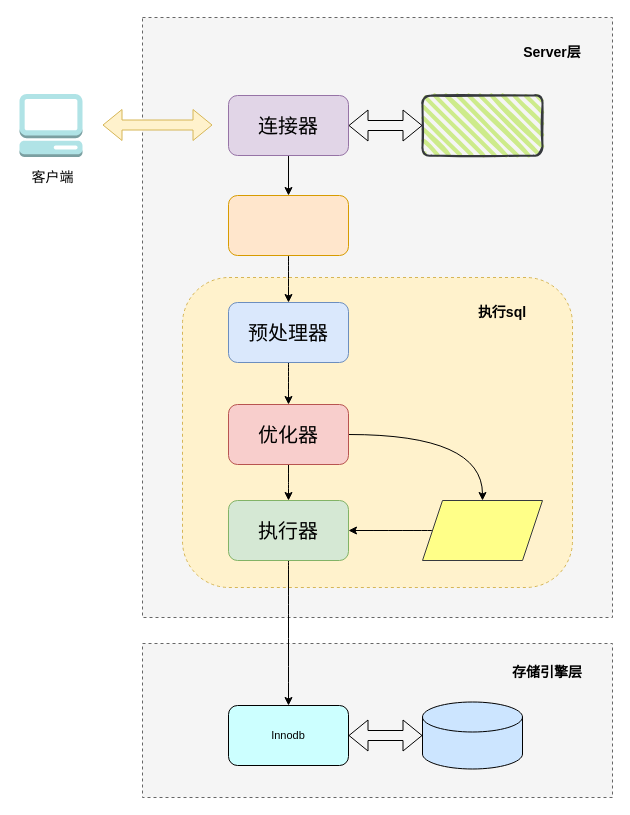
Image size: 630x815. Some labels were removed from this diagram. The centre of each missing label's shape, as x and y in pixels:
执行计划: point 482,530
缓存: point 482,125
解析器: point 288,225
